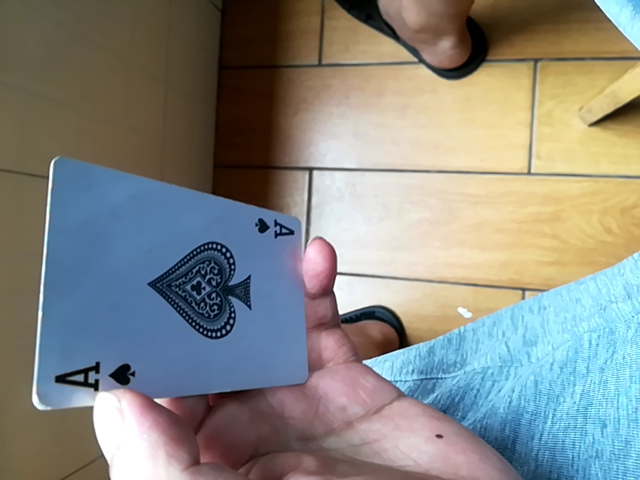ht a: (34, 153, 314, 411)
